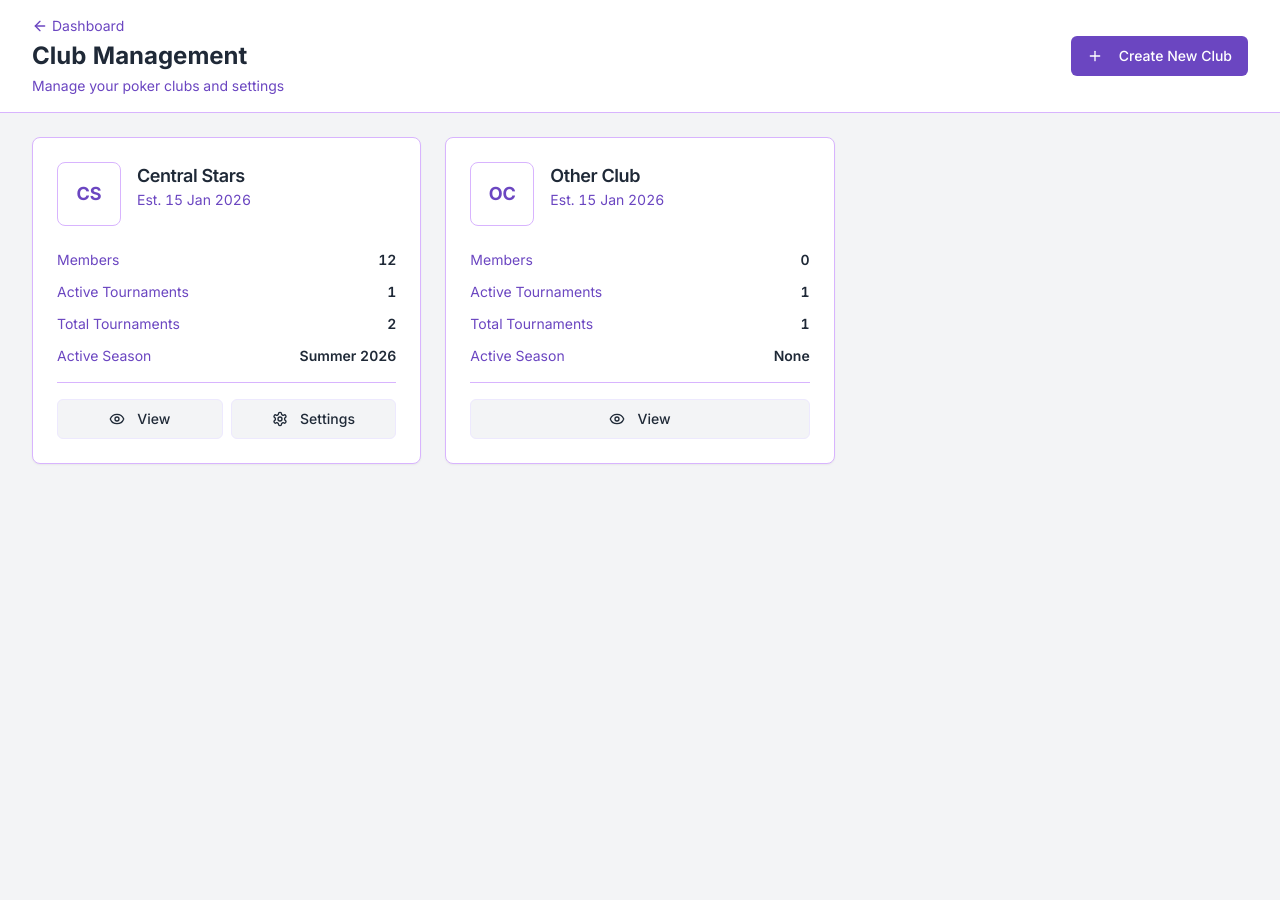
Test: Create New Club › puts a taken slug under the slug field
Click the button with test id "create-club-button" at (1159, 56), box [1071, 36, 1248, 76]
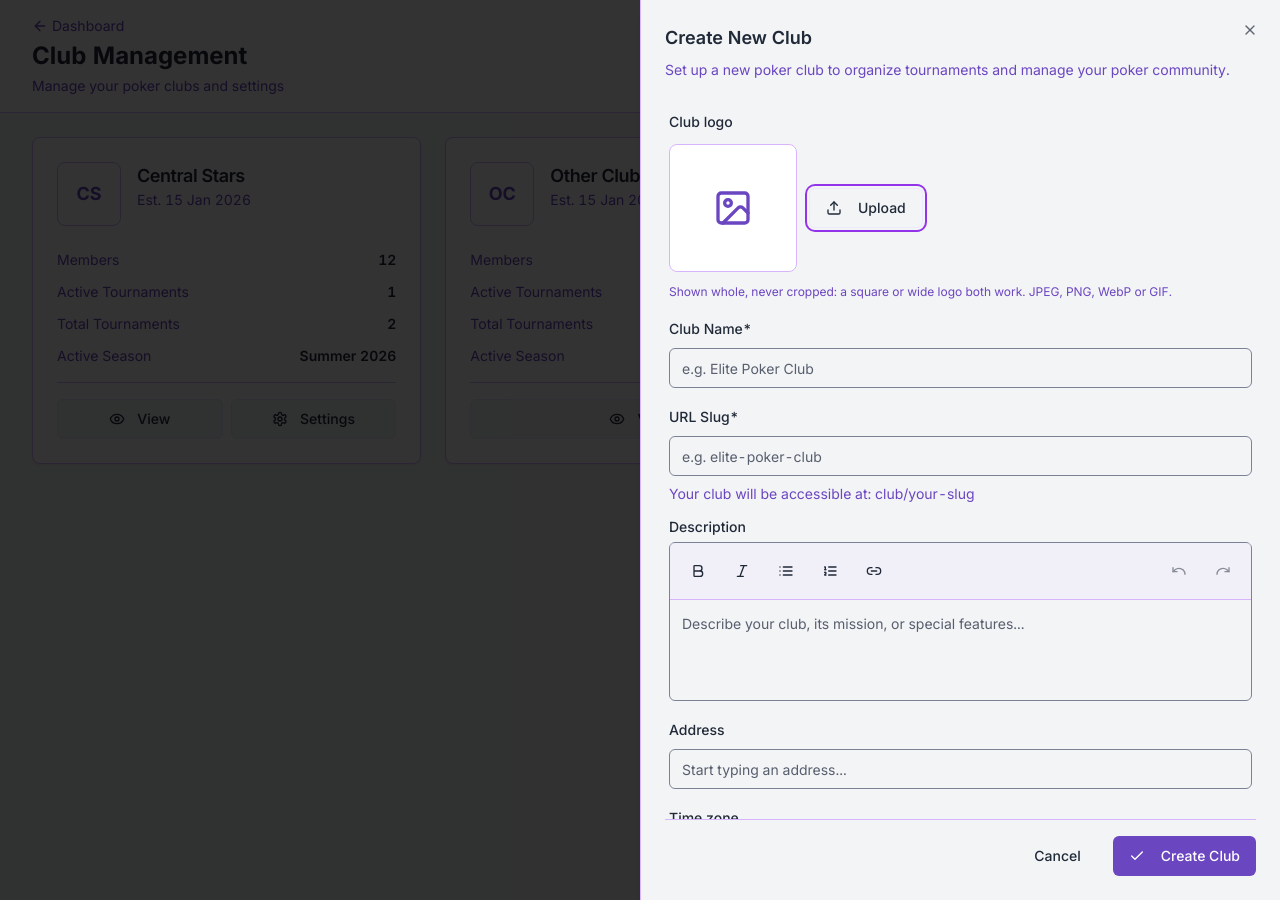
Type "Central Stars" into the field with test id "club-name" at (960, 368), box [669, 348, 1252, 388]
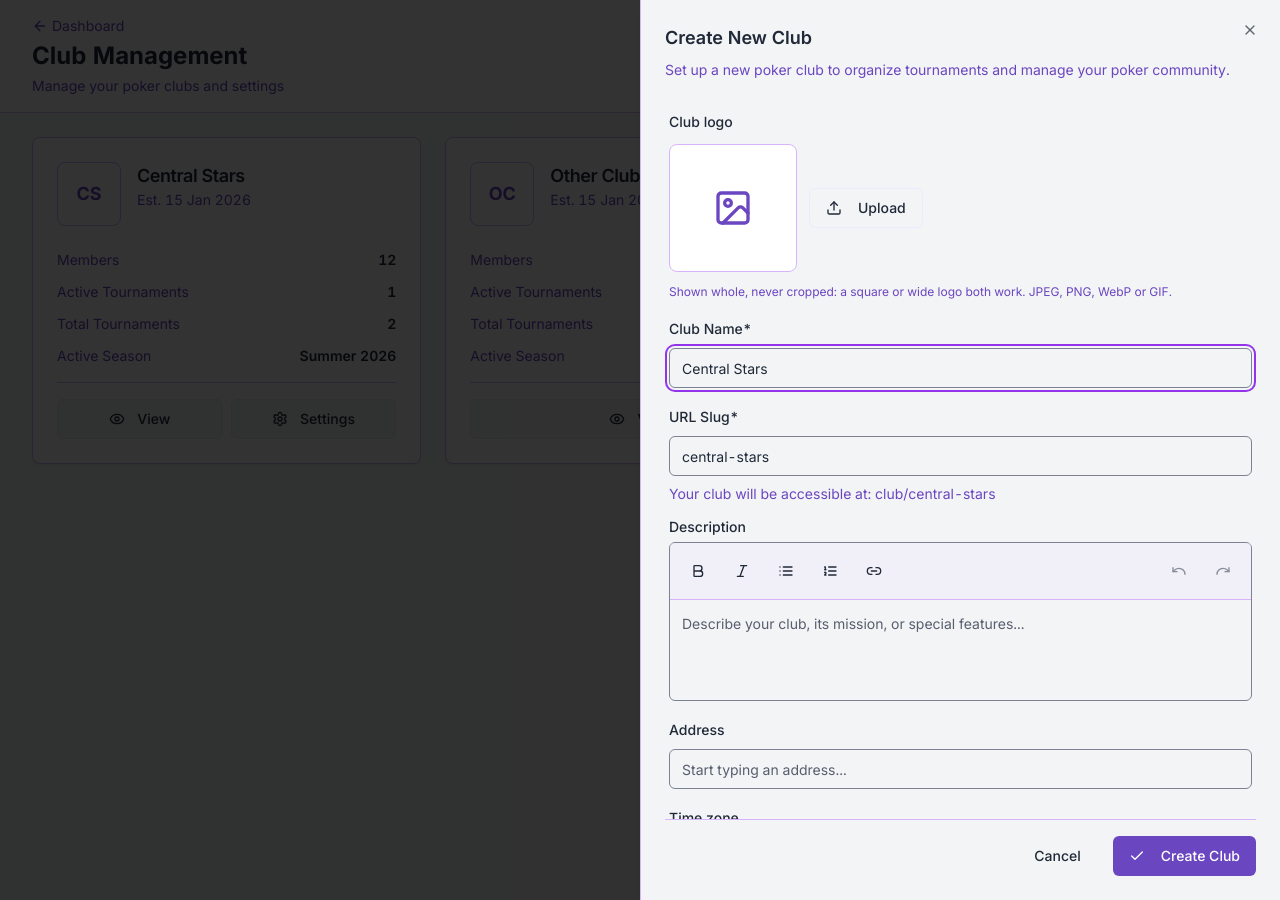
Click the button with test id "create-club-final" at (1184, 856), box [1113, 836, 1256, 876]
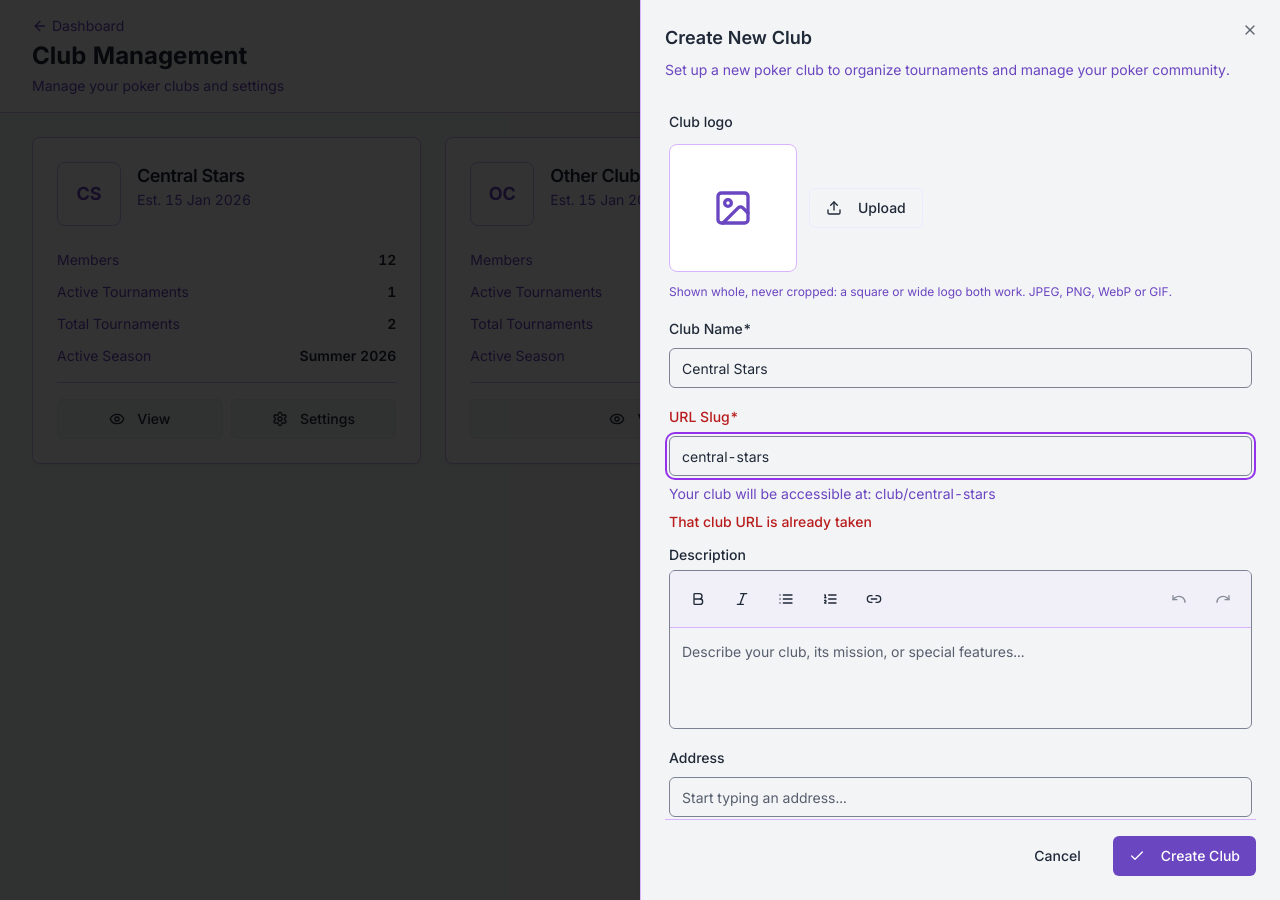
Expected: the text "That club URL is already taken" is shown, [669, 513, 872, 530]
